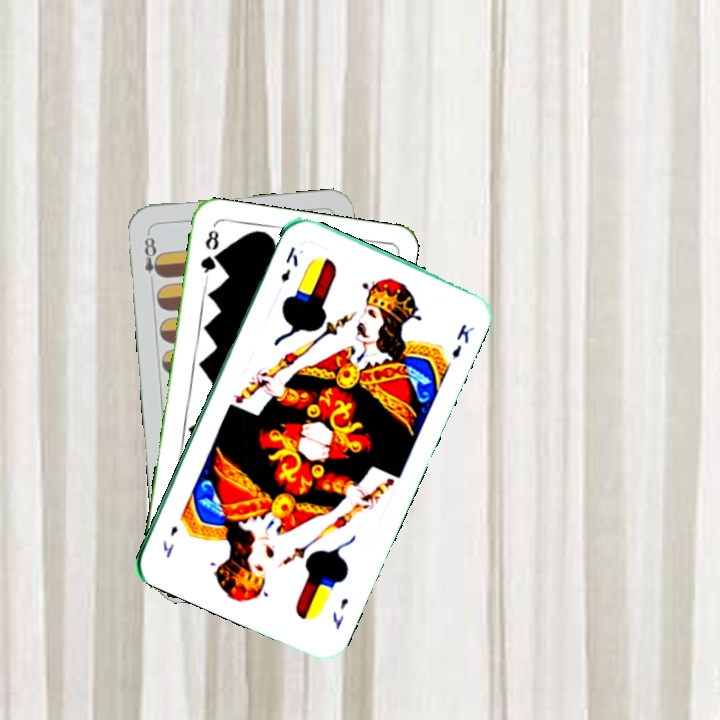E8: (140, 228, 165, 288)
EK: (276, 243, 301, 286), (328, 594, 351, 632)
G8: (196, 226, 222, 282)
